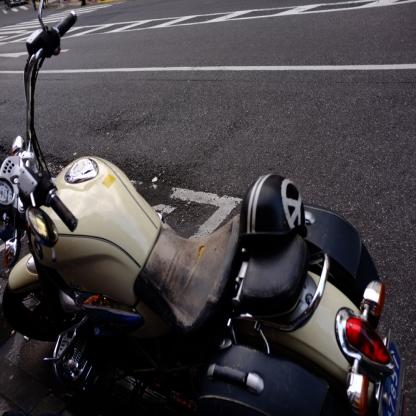Helmet: (238, 170, 307, 240)
